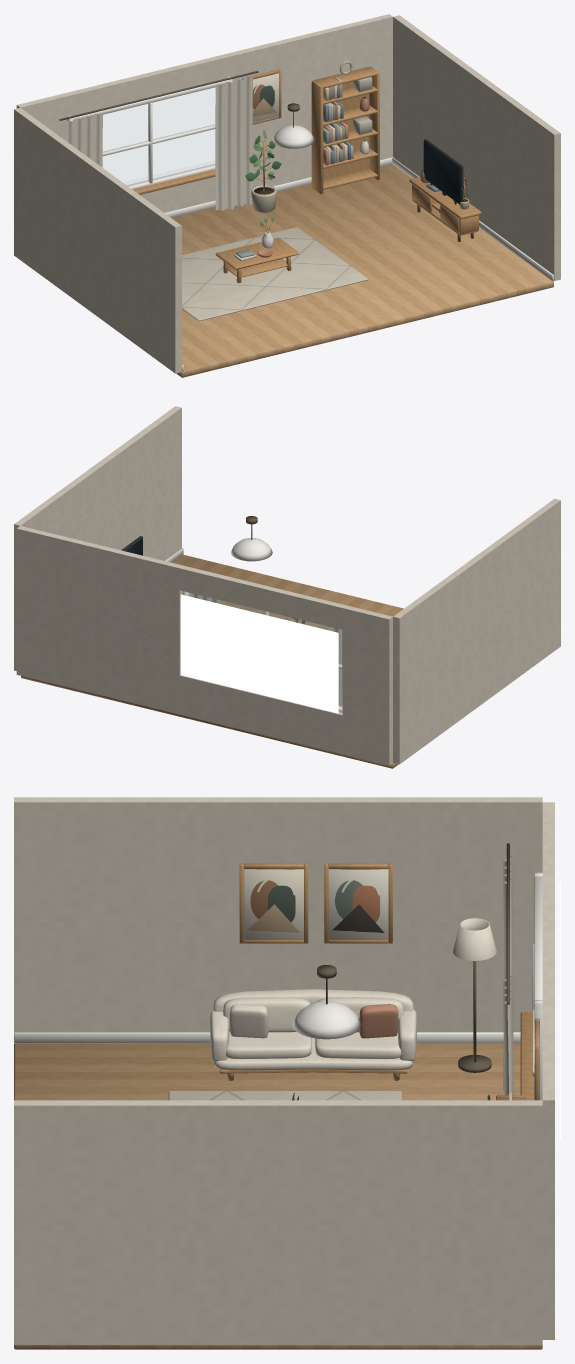
File: SMASH_LAB_LivingRoom.gltf
3 views of the same model, one above another, from view 1: azimuth 30°, elevation 25°; view 2: azimuth 150°, elevation 25°; view 3: azimuth 270°, elevation 25° (orthographic). The views are drawn at different scales.
Visible parts, largest first — view 1: Floor_Oak, Wall_Left, Wall_Right, Wall_Back_RightPier, Rug_SoftWool, Window_DaylightBackdrop, Window_Glass, Curtain_Right, Bookshelf, Wall_Back_WindowHeader, Wall_Back_WindowApron, Curtain_Left (+19 smaller); view 2: Wall_Left, Wall_Back_RightPier, Wall_Right, Window_DaylightBackdrop, Wall_Back_LeftPier, Wall_Back_WindowApron, Wall_Back_WindowHeader, Floor_Oak, Window_Glass, CeilingLight_Shade; view 3: Wall_Right, Wall_Left, Floor_Oak, Sofa, Wall_Back_RightPier, Painting_Left_02_Canvas, Painting_Left_01_Canvas, Skirting_Left, Sofa_Base, Rug_SoftWool, CeilingLight_Shade, Sofa_BackFrame (+10 smaller).
Part boxes in pixels (x1,y1,x2,y2): Floor_Oak: [171, 164, 553, 377]; Wall_Left: [14, 107, 181, 373]; Wall_Right: [393, 15, 560, 280]; Wall_Back_RightPier: [226, 14, 392, 187]; Rug_SoftWool: [182, 227, 368, 321]; Window_DaylightBackdrop: [102, 87, 215, 182]; Window_Glass: [103, 88, 215, 185]; Curtain_Right: [215, 77, 252, 211]; Bookshelf: [314, 67, 378, 189]; Wall_Back_WindowHeader: [63, 54, 229, 116]; Wall_Back_WindowApron: [127, 164, 215, 212]; Curtain_Left: [65, 114, 102, 167]; Wall_Left: [393, 498, 560, 764]; Wall_Back_RightPier: [16, 526, 182, 714]; Wall_Right: [14, 406, 181, 670]; Window_DaylightBackdrop: [180, 594, 338, 713]; Wall_Back_LeftPier: [342, 605, 392, 765]; Wall_Back_WindowApron: [179, 675, 342, 754]; Wall_Back_WindowHeader: [179, 565, 345, 629]; Floor_Oak: [21, 554, 403, 768]; Window_Glass: [187, 592, 341, 708]; CeilingLight_Shade: [231, 538, 272, 561]; Wall_Right: [14, 1100, 542, 1344]; Wall_Left: [14, 797, 542, 1032]; Floor_Oak: [14, 1043, 542, 1349]; Sofa: [223, 997, 403, 1080]; Wall_Back_RightPier: [542, 970, 554, 1339]; Painting_Left_02_Canvas: [328, 869, 388, 939]; Painting_Left_01_Canvas: [244, 869, 303, 939]; Skirting_Left: [14, 1032, 520, 1043]; Sofa_Base: [214, 1038, 412, 1070]; Rug_SoftWool: [168, 1091, 401, 1100]; CeilingLight_Shade: [292, 1000, 360, 1039]; Sofa_BackFrame: [213, 989, 413, 1011].
Size of the model in its own units: 8.28 by 3.13 by 6.21.
29 materials, 10 textured.
